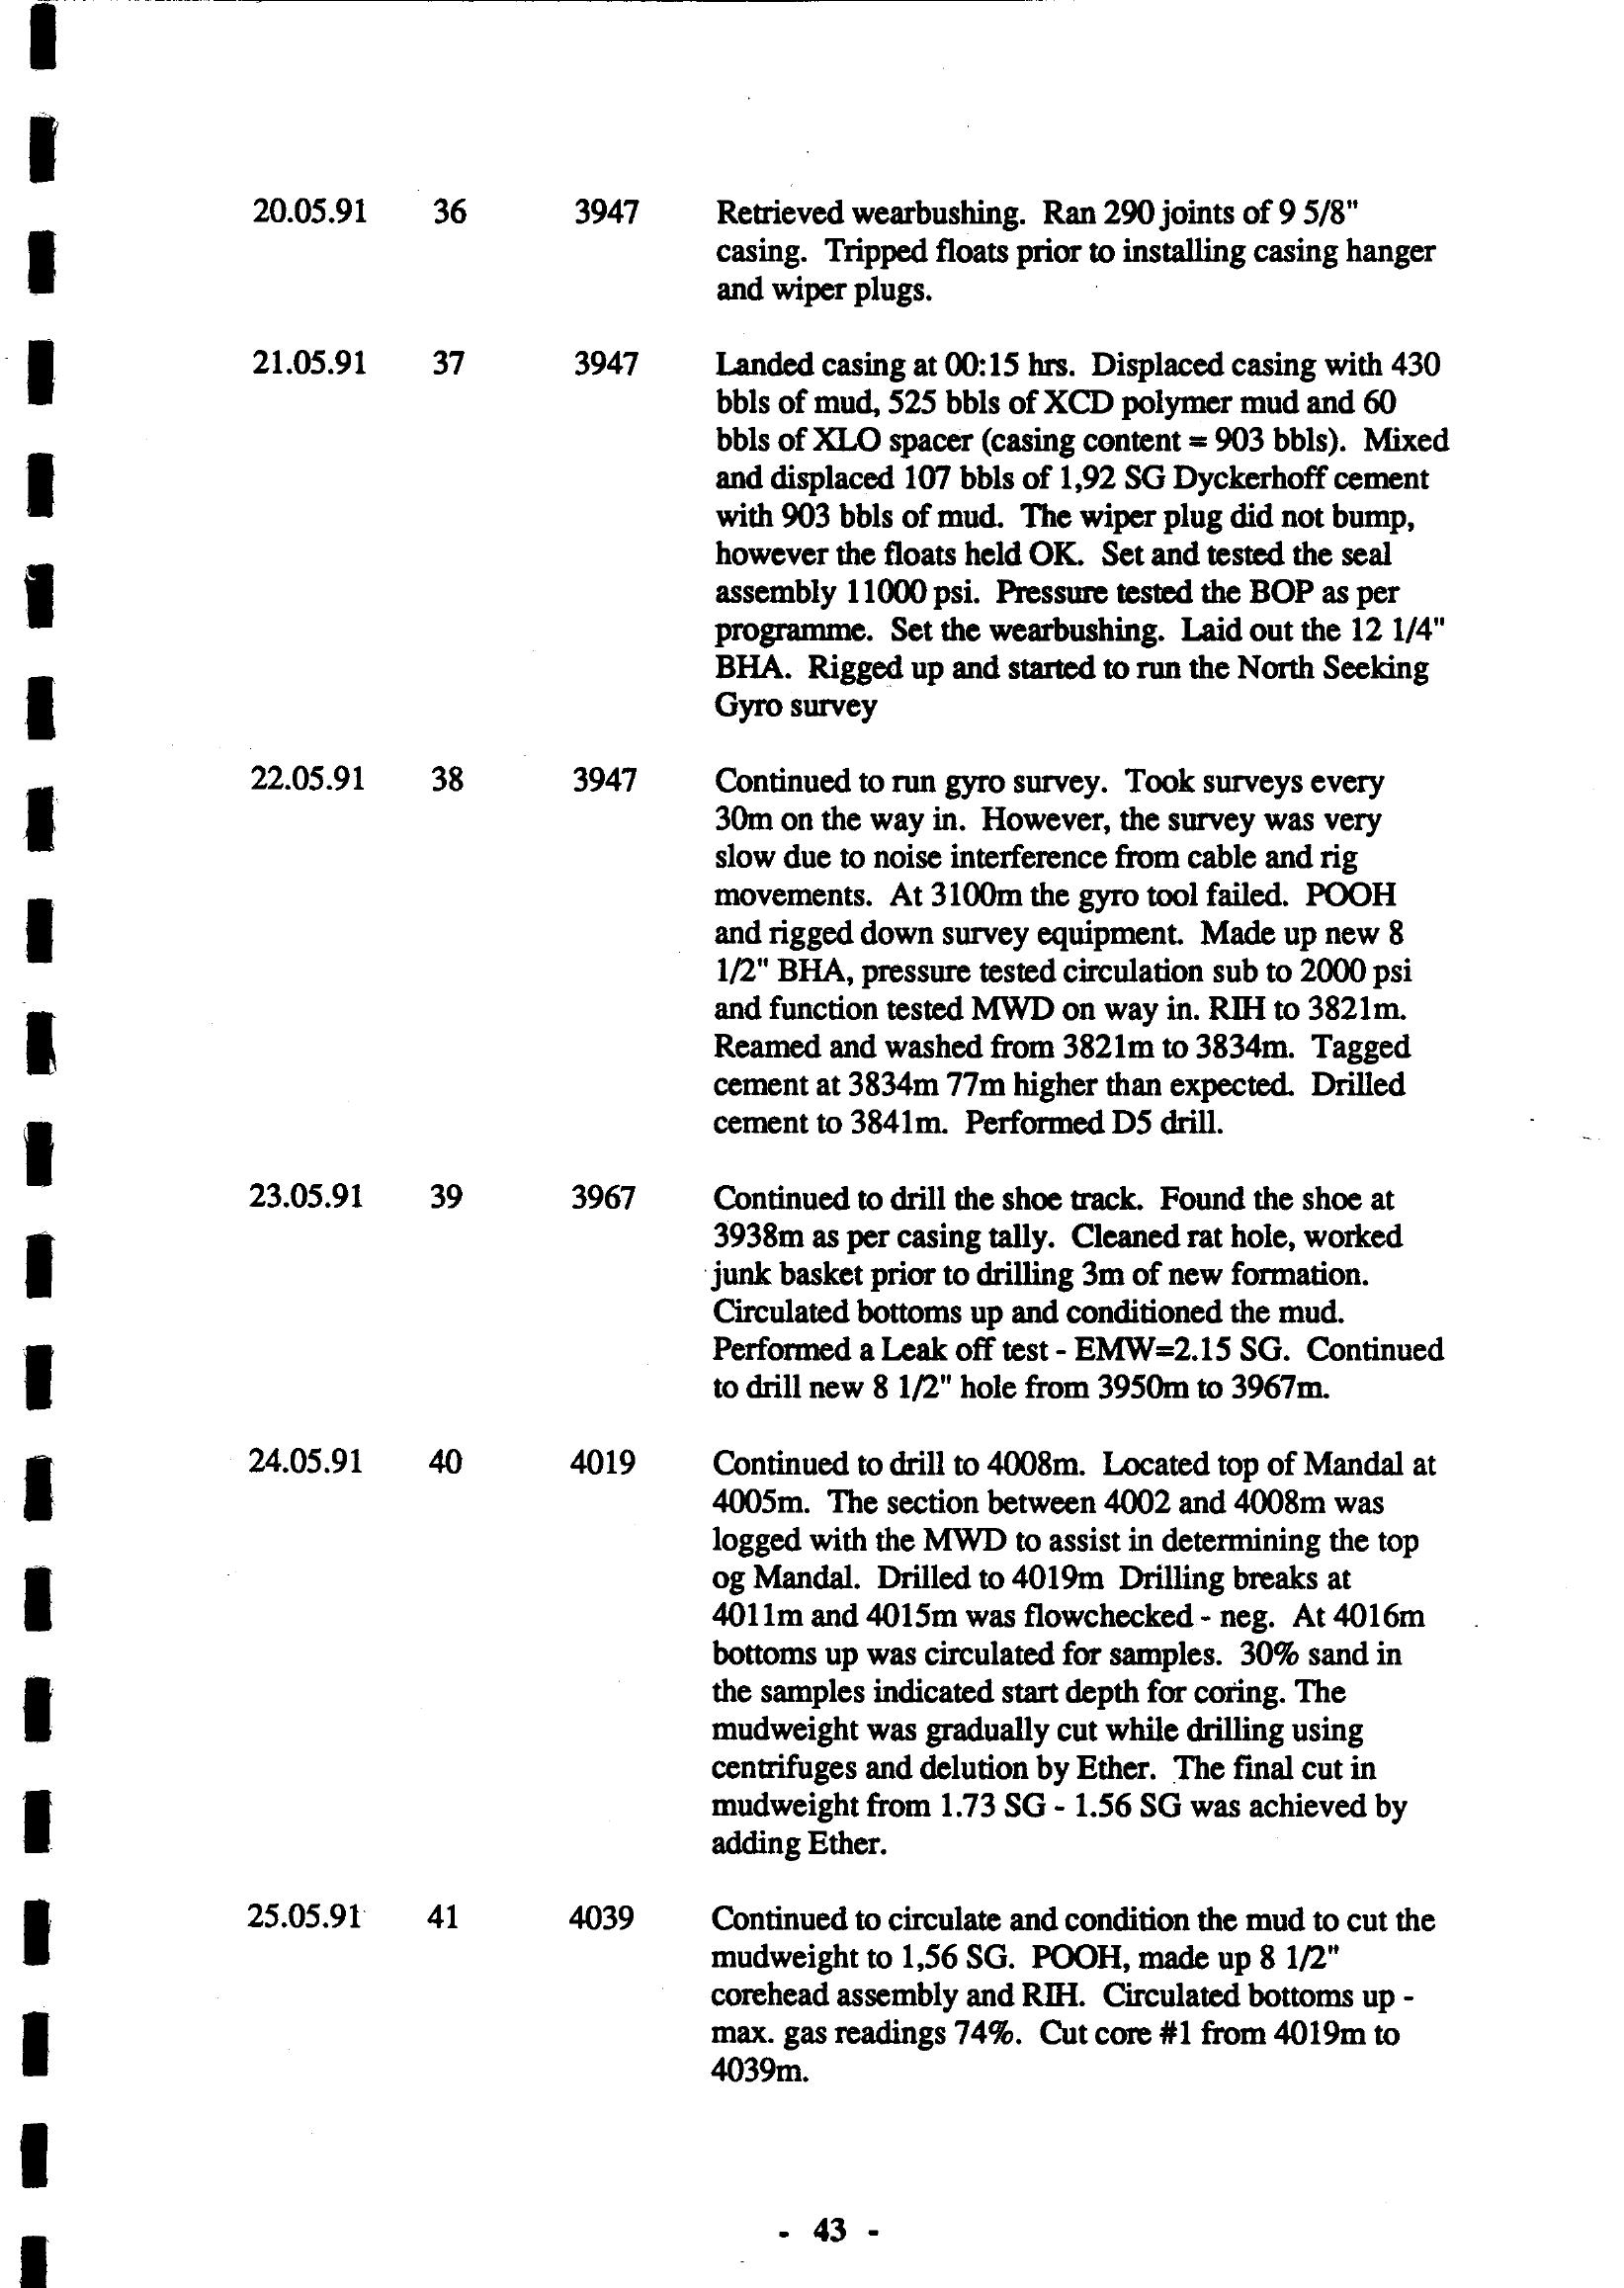text: (169, 141, 1508, 2132)
